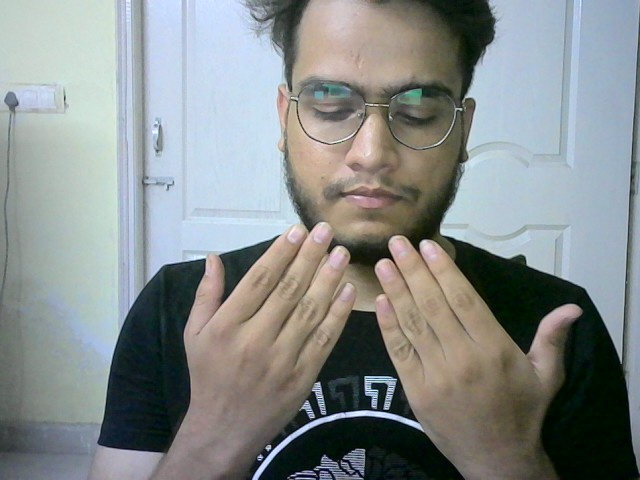Thank You: (176, 216, 588, 433)
